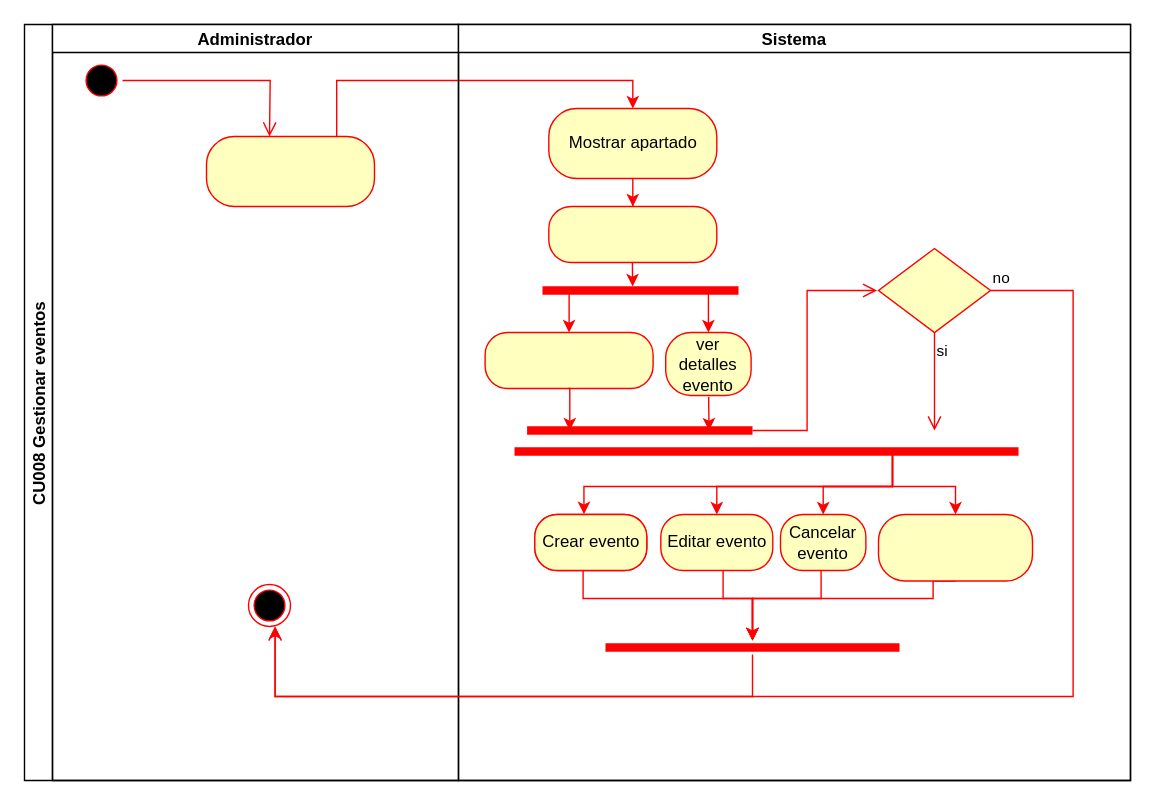
Image size: 1155x805. Some labels were removed from this diagram. Each missing label, with the centre of its shape:
Modificar estado de evento: (x=954, y=547)
Mostrar calendario de eventos: (x=568, y=359)
Mostrar listado de eventos: (x=632, y=233)
Pulsa el apartado "Administrar eventos": (x=289, y=170)
¿Rol admin?: (x=933, y=289)
